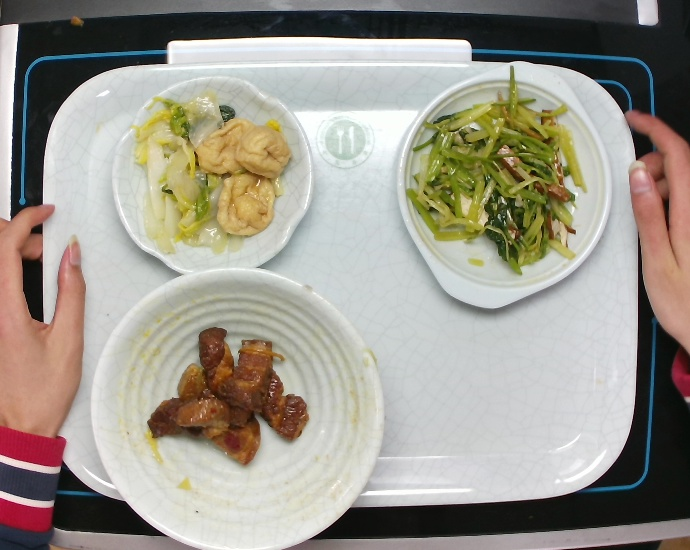JYsf-Ao_Yuan_Wan: (111, 72, 319, 286)
JYsf-Shuang_Er_Pan: (388, 56, 620, 324)
JYsf-Xiao_Tang_Wan: (82, 263, 390, 550)
